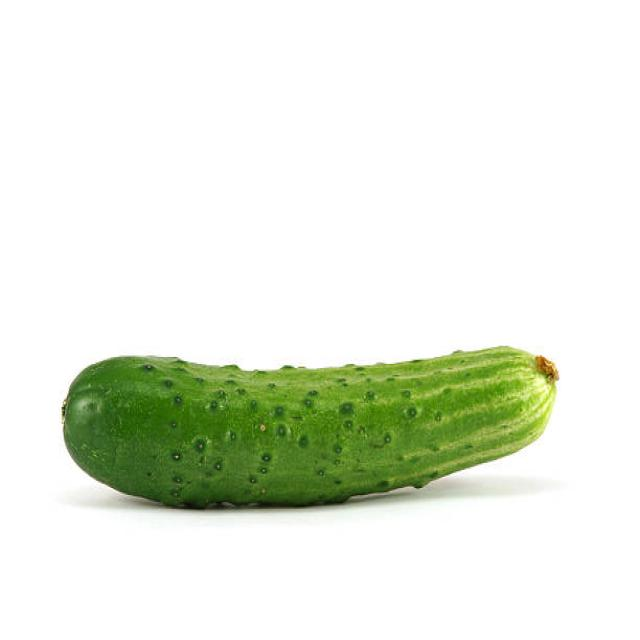cucumber: (63, 346, 553, 513)
